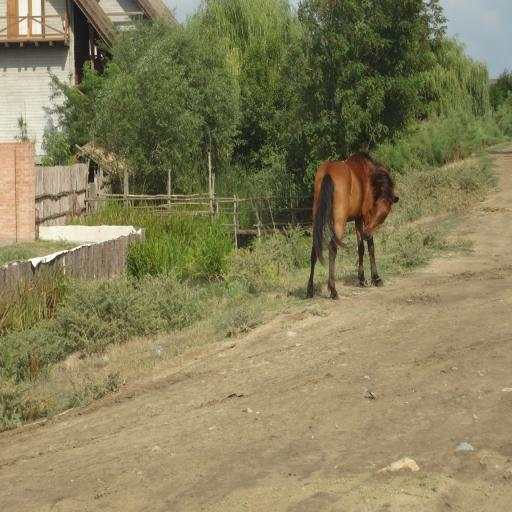horse: (308, 150, 402, 303)
